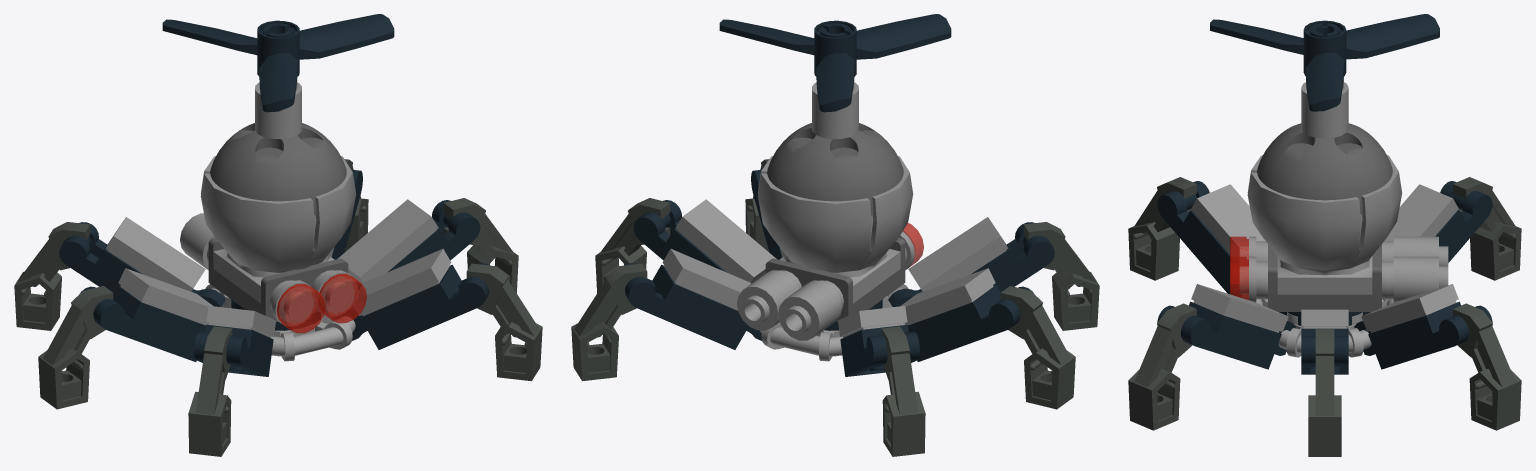
Rendered from mm-02-grunt.dae.
3 renders of one model, left to right at view 1: azimuth 30°, elevation 25°; view 2: azimuth 150°, elevation 25°; view 3: azimuth 270°, elevation 25°, orthographic.
Size of the model in its own units: 224 by 166 by 147.
